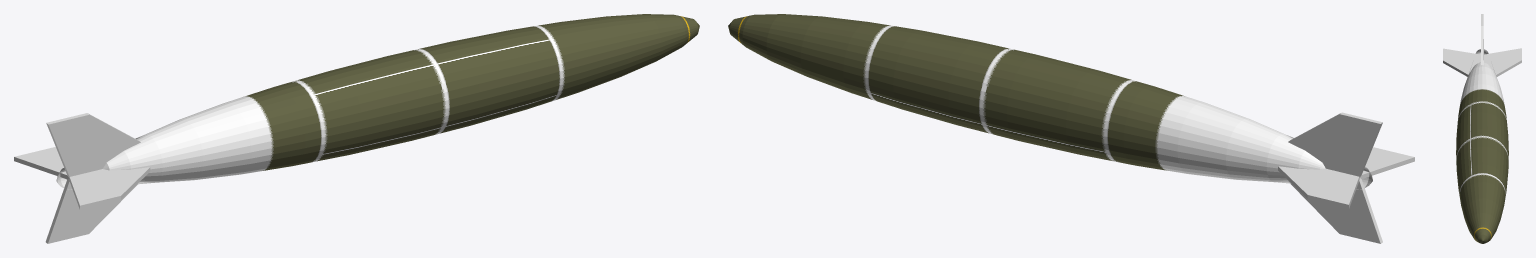
File: b2amk842.glb
3 views of the same model, side by side, from view 1: azimuth 30°, elevation 25°; view 2: azimuth 150°, elevation 25°; view 3: azimuth 270°, elevation 25° (orthographic). The views are drawn at different scales.
Visible parts, largest first — view 1: 球.010; view 2: 球.010; view 3: 球.010.
Part boxes in pixels (<box>): 球.010: <box>14,14,699,243</box>; 球.010: <box>728,14,1414,243</box>; 球.010: <box>1443,14,1521,243</box>.
Size of the model in its own units: 3.97 by 0.6943 by 0.6936.
1 material, 1 textured.
